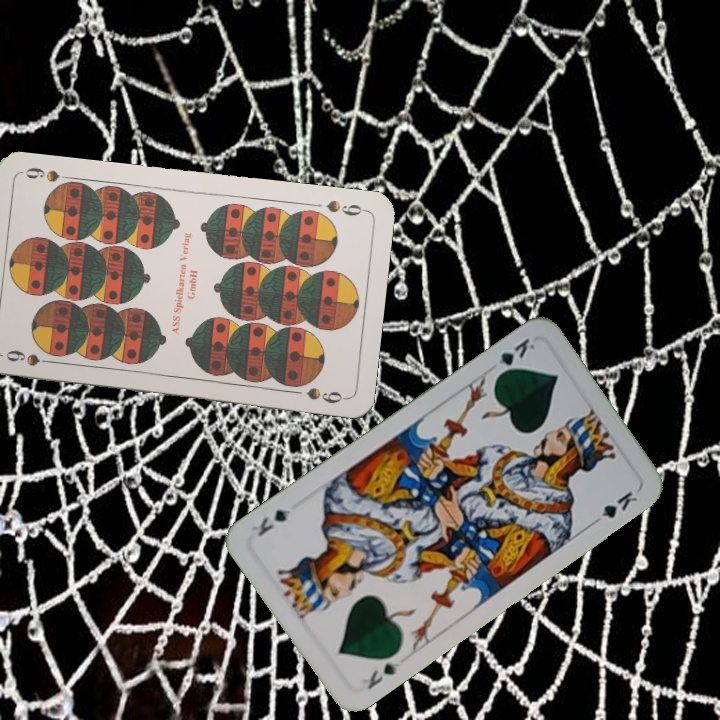GK: (485, 333, 538, 380), (363, 656, 403, 692)
S9: (1, 346, 60, 369), (322, 196, 369, 219)
